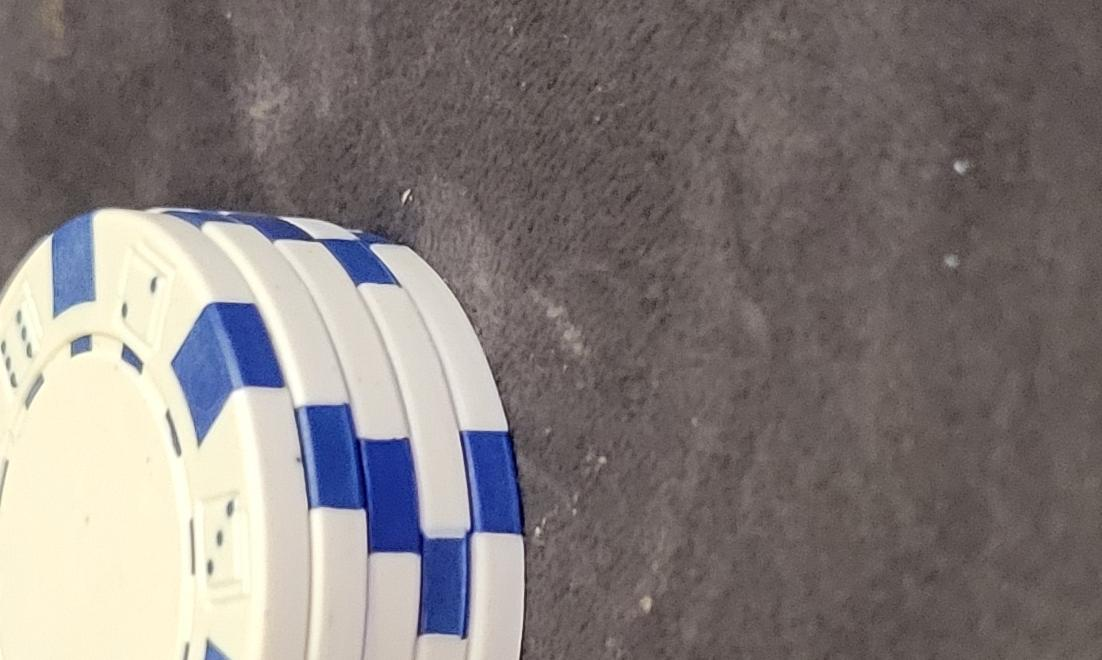Chip: (1, 314, 460, 660)
